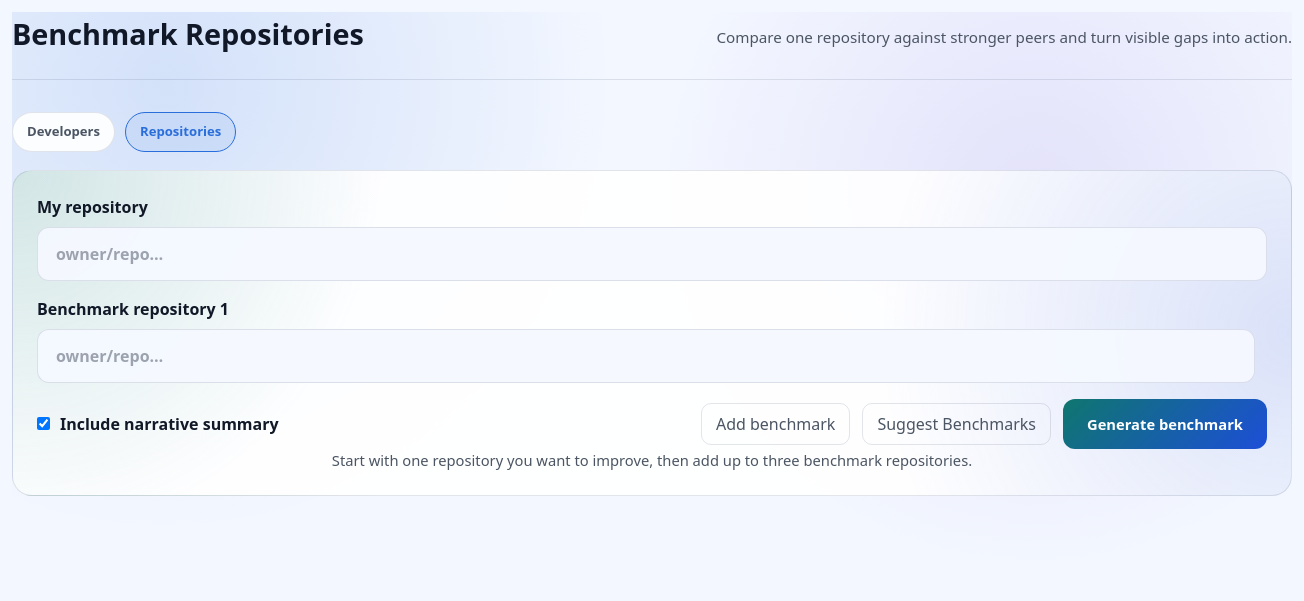
Test: Suggestion UI (Requirements 7.1, 7.6) › empty state › shows "No suggestions found" when API returns empty list
Type "owner/myrepo" into the field with placeholder "owner/repo…". click: coordinates (652, 254)
box: x1=37 y1=227 x2=1267 y2=281
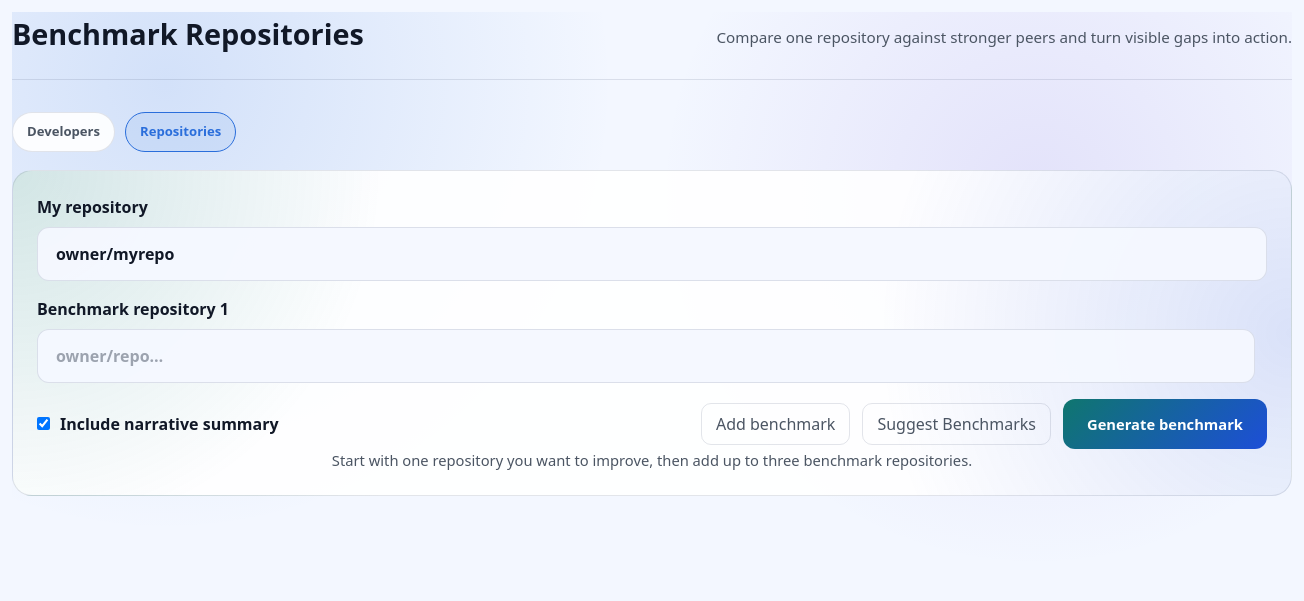
Click the button "Suggest Benchmarks". click: coordinates (957, 424)
box: x1=862 y1=403 x2=1051 y2=445
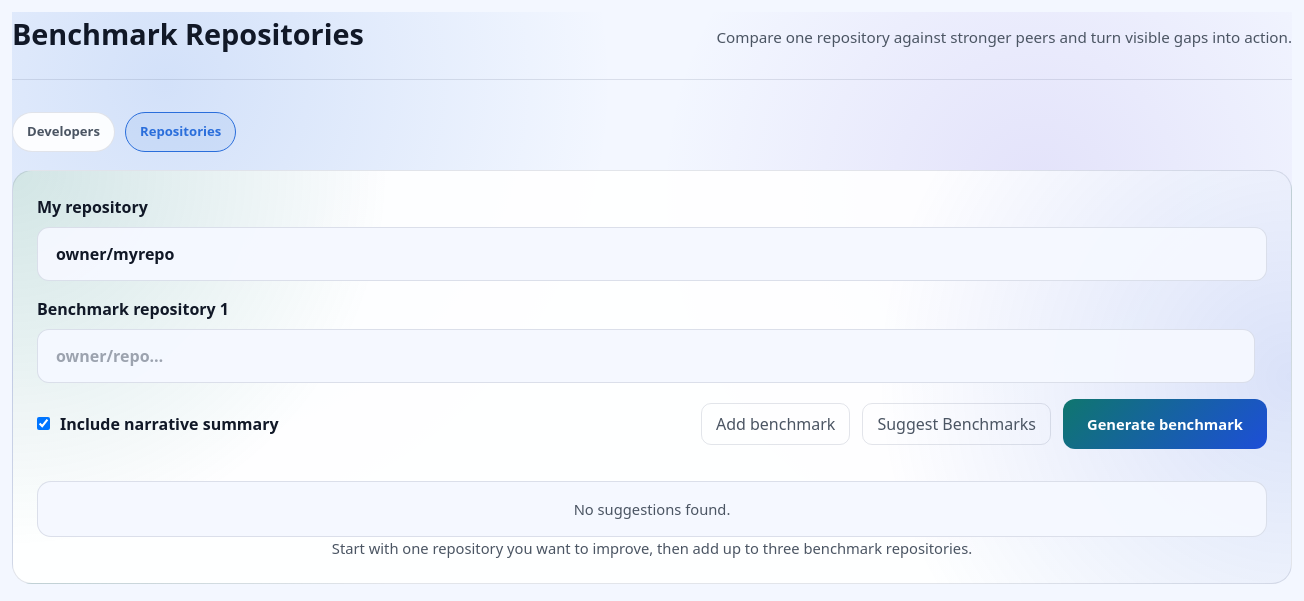
Check: the text "No suggestions found." is shown, box x1=574 y1=499 x2=730 y2=519
